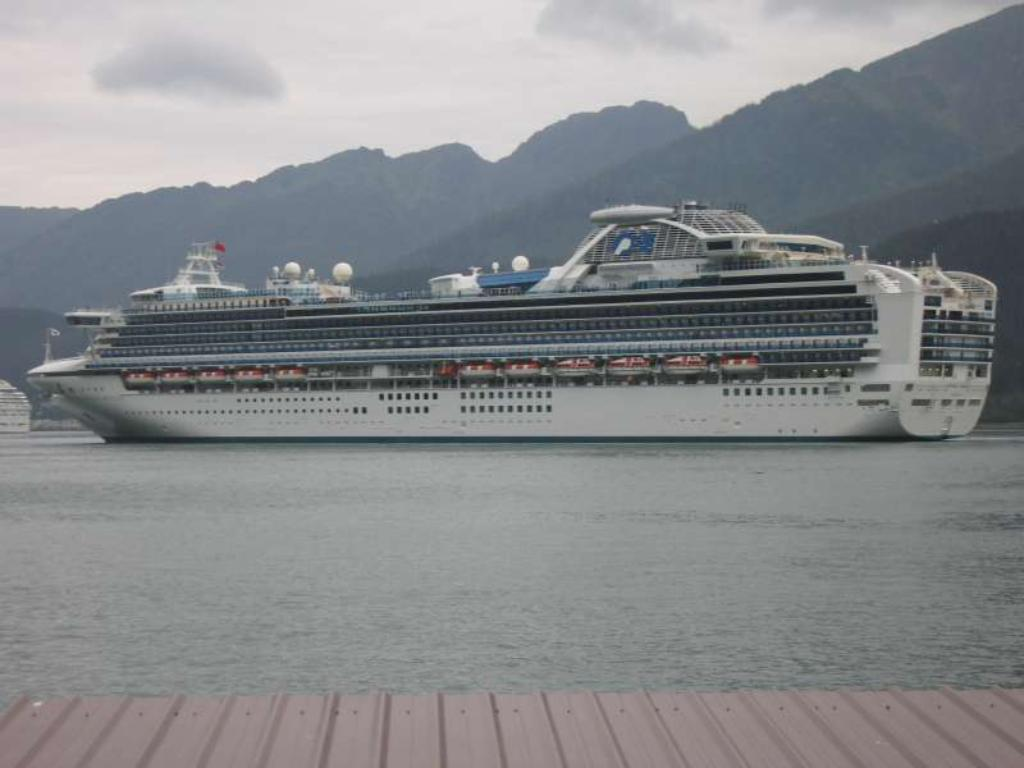PassengerShip: (24, 206, 1014, 454)
